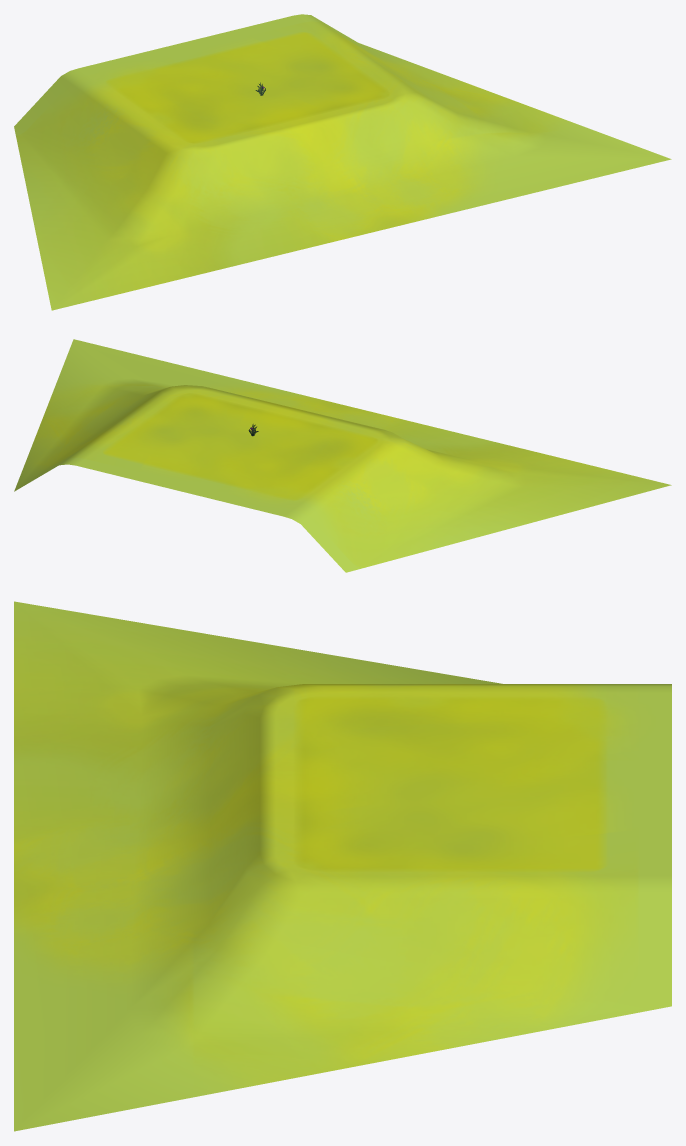
Rendered from gameboard_mdl.fbx.
3 views of the same model, one above another, from view 1: azimuth 30°, elevation 25°; view 2: azimuth 150°, elevation 25°; view 3: azimuth 270°, elevation 25° (orthographic). The views are drawn at different scales.
Parts seen in each view (by area): view 1: gameboard_Geo; view 2: gameboard_Geo; view 3: gameboard_Geo.
Boxes of the visible parts, box(x1,y1,x2,y2) form: gameboard_Geo: box(14, 14, 671, 310); gameboard_Geo: box(14, 339, 671, 572); gameboard_Geo: box(14, 601, 671, 1131).
Size of the model in its own units: 835 by 91.47 by 438.
